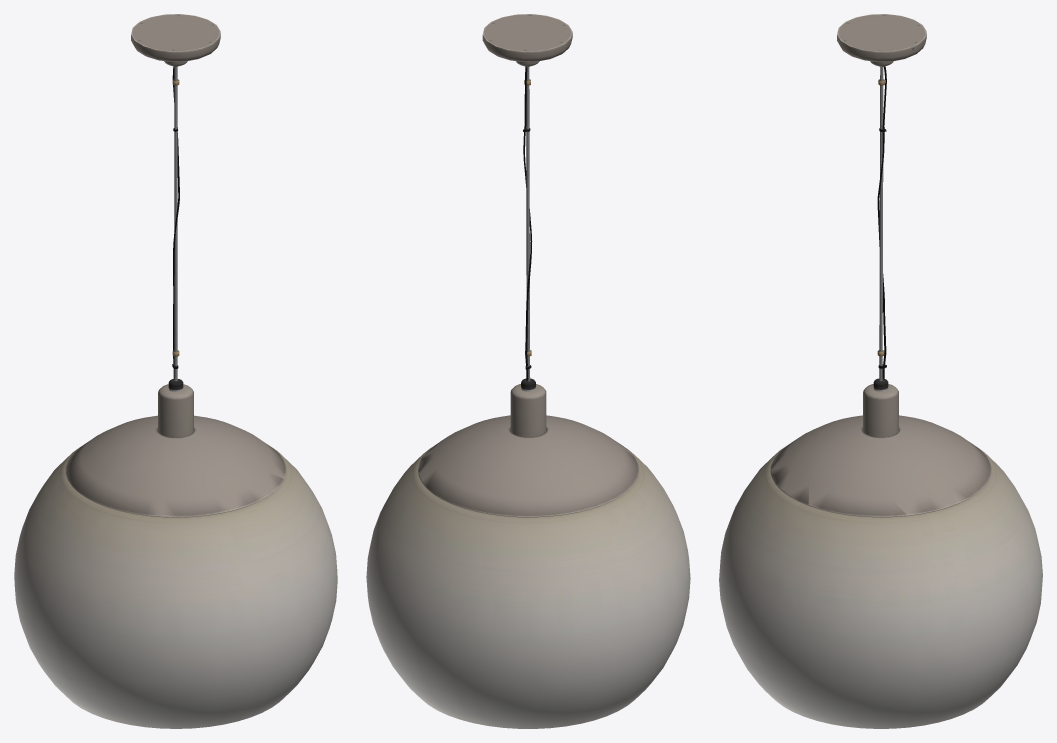
File: modern_ceiling_lamp_01.glb
3 renders of one model, left to right at view 1: azimuth 30°, elevation 25°; view 2: azimuth 150°, elevation 25°; view 3: azimuth 270°, elevation 25°, orthographic.
Visible parts, largest first — view 1: modern_ceiling_lamp_01; view 2: modern_ceiling_lamp_01; view 3: modern_ceiling_lamp_01.
Part boxes in pixels (x1=…): modern_ceiling_lamp_01: x1=14, y1=14, x2=337, y2=728; modern_ceiling_lamp_01: x1=366, y1=14, x2=690, y2=728; modern_ceiling_lamp_01: x1=719, y1=14, x2=1042, y2=728.
Size of the model in its own units: 0.4317 by 0.9516 by 0.4317.
2 materials, 2 textured.
